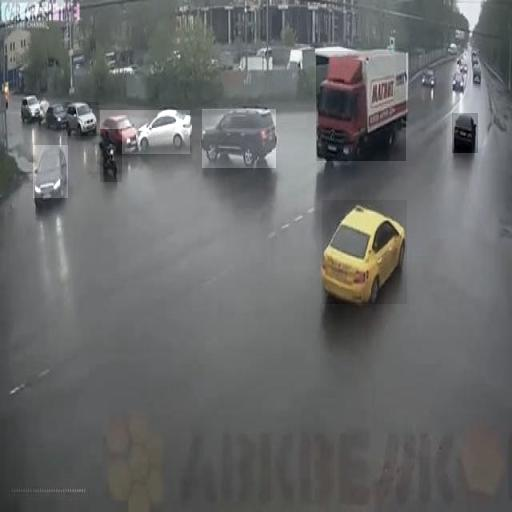小汽车: (316, 51, 406, 161), (322, 200, 407, 304), (202, 109, 276, 168), (33, 145, 68, 198), (63, 102, 99, 136), (452, 114, 478, 154)
小汽车撞小汽车: (100, 110, 190, 154)
自行车: (100, 129, 122, 182)
